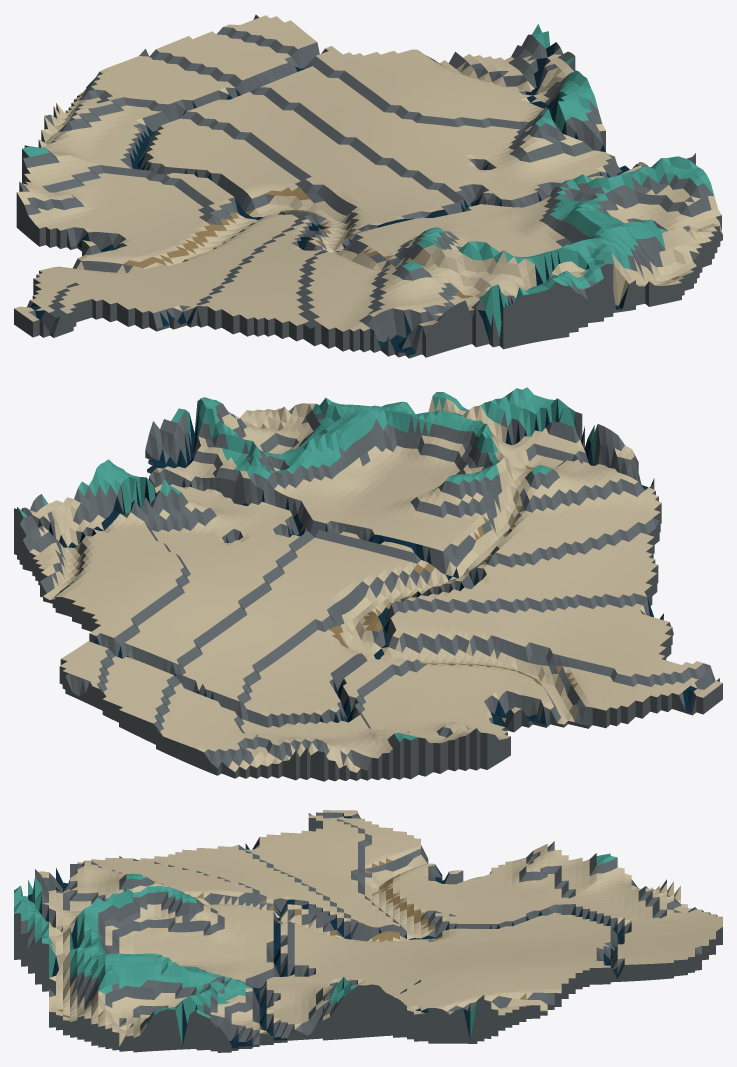
Rendered from coral-reef-terrain-282969.glb.
3 views of the same model, one above another, from view 1: azimuth 30°, elevation 25°; view 2: azimuth 150°, elevation 25°; view 3: azimuth 270°, elevation 25° (orthographic). The views are drawn at different scales.
Visible parts, largest first — view 1: seabed; view 2: seabed; view 3: seabed.
Boxes of the visible parts, left/top/right/bottom form: seabed: left=14, top=14, right=722, bottom=358; seabed: left=14, top=387, right=722, bottom=781; seabed: left=14, top=810, right=722, bottom=1052.
Bounding box in the file's own units: 92 × 16.51 × 101.
